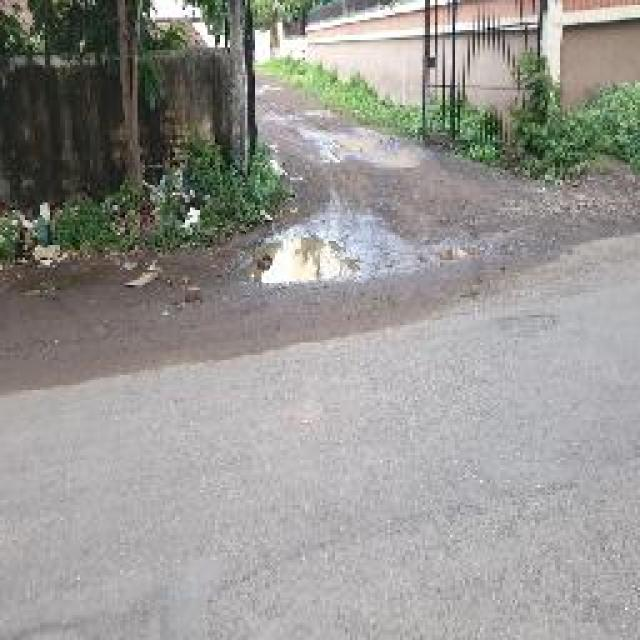puddle: (231, 224, 374, 298)
